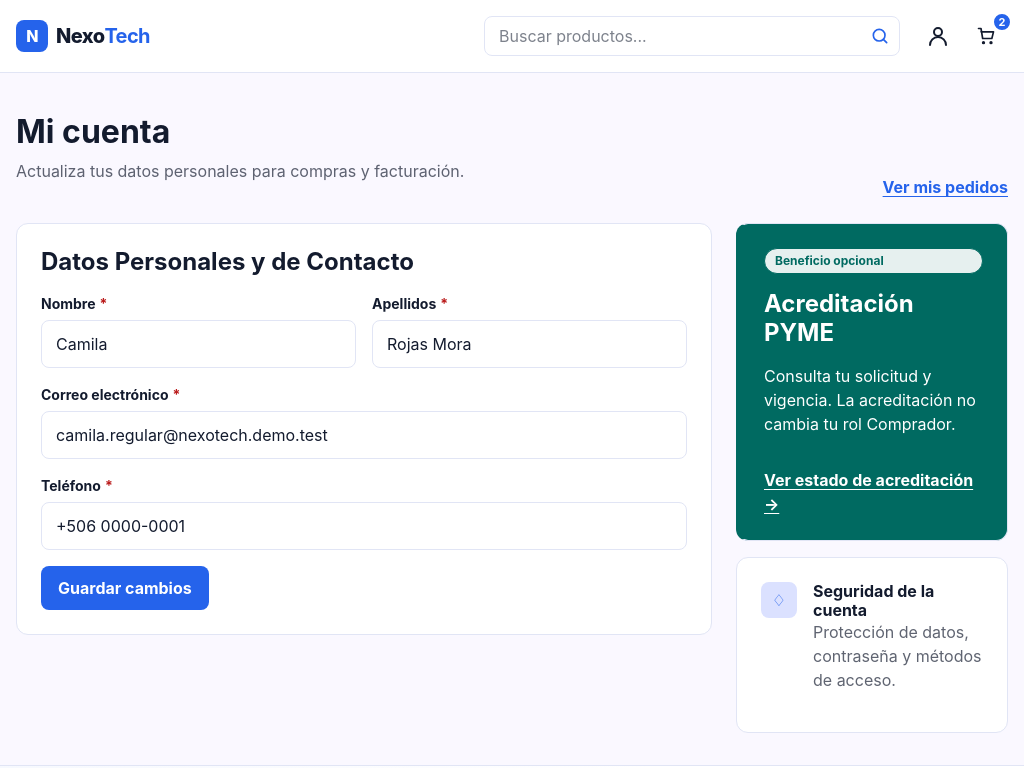
AccountPage › edita el usuario actual sin modificar otro comprador
Replace the text in the field labelled "Nombre*" with "Camila Editada" at (198, 344), box [41,320,356,368]
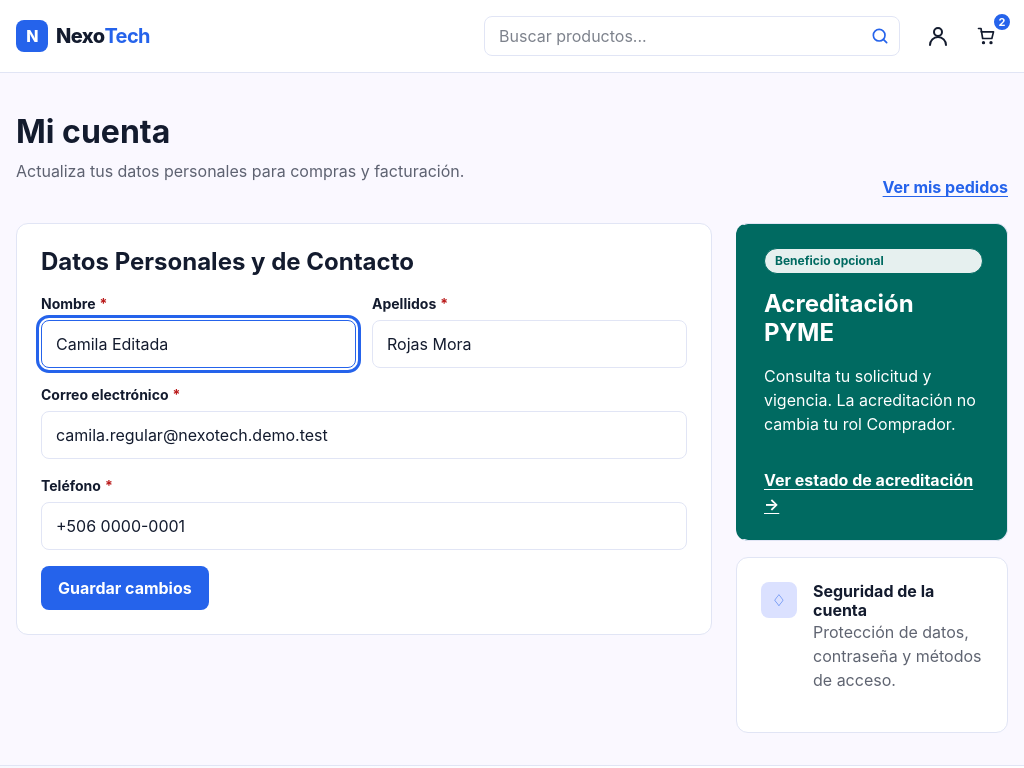
Click the button "Guardar cambios" at (125, 588), box [41,566,209,610]
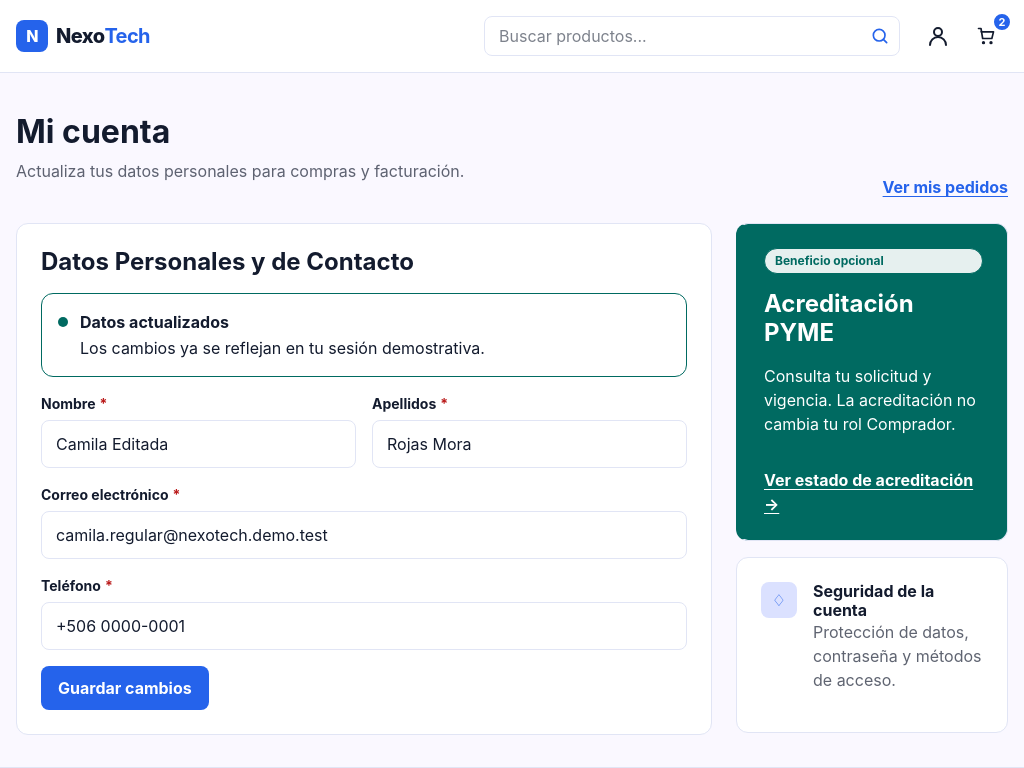
Expected: the text "Datos actualizados" is shown, [80,312,229,332]
